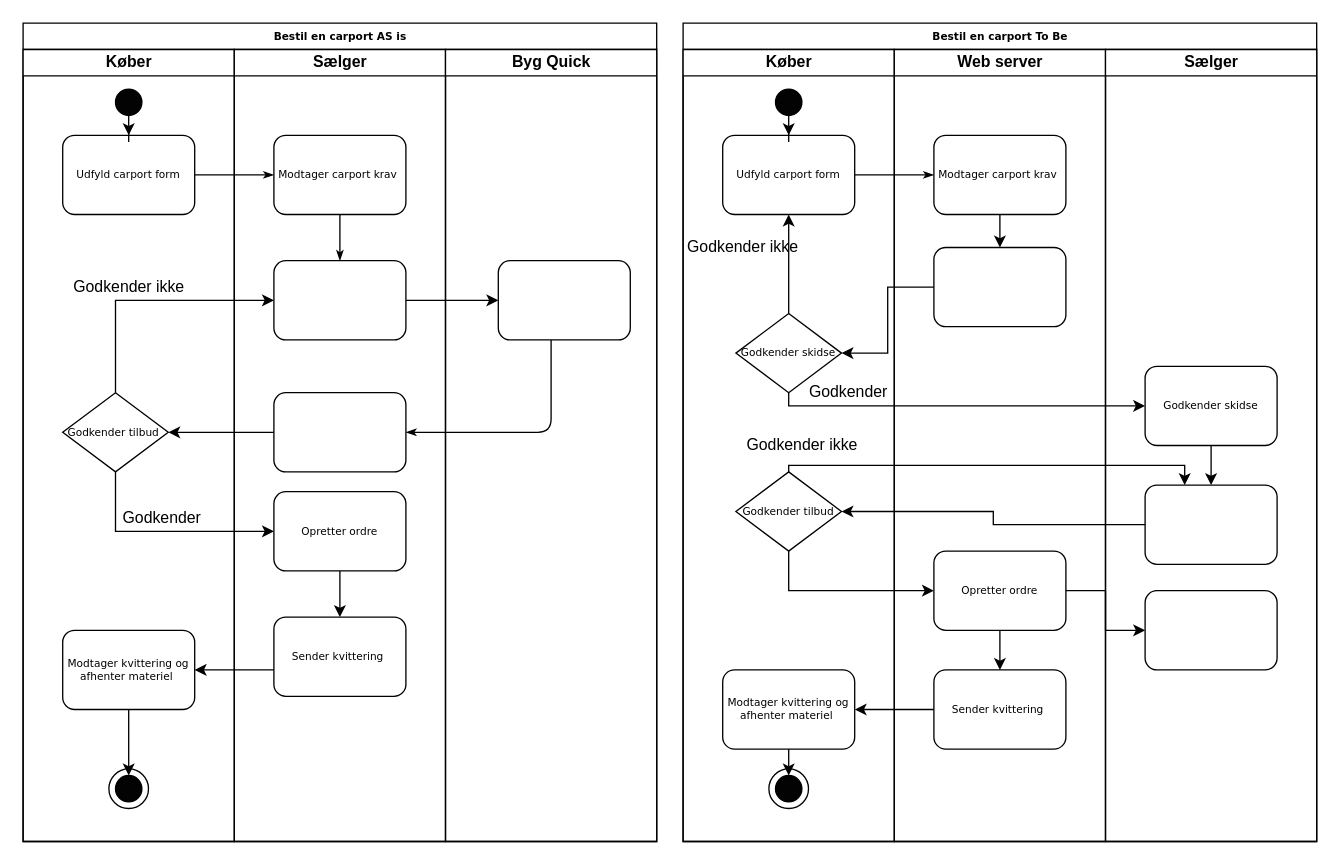
Some shapes in this 1340 by 865 pixel diagram are drawn without their labels. Here are the shapes that lost their labels. From the top down, the centre of each, then its label:
At (339,299): "Indtaster krav i Byg Quick System".
At (563,299): "Beregner materialeliste og pris".
At (999,286): "Beregner materialeliste, laver PDF og pris".
At (339,431): "Sammensætter et tilbud og sender til kunde".
At (1210,524): "Laver et tilbud og kontakter kunde".
At (1210,629): "Modtager materiale liste".
